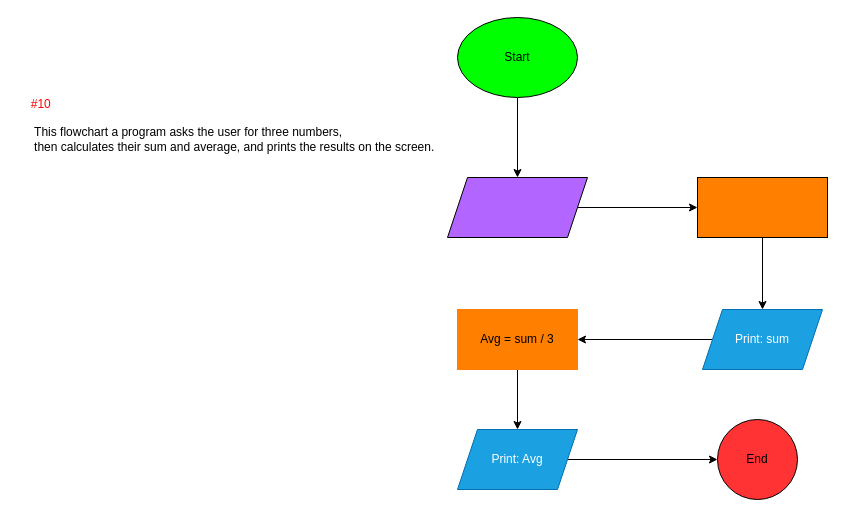
Image size: 845x517. Some labels were removed from this diagram. Each missing label, with the centre of its shape:
Read: num1, num2, num3: pixel 517 207
sum = num1 + num2 + num3: pixel 762 207
